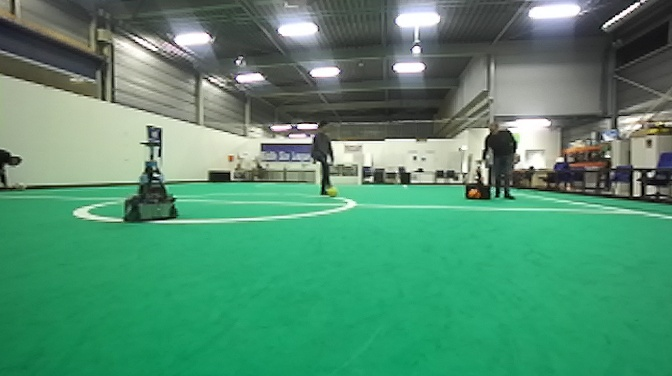ball: (8, 177, 29, 194), (466, 187, 483, 202), (325, 185, 339, 200)
goalpost: (357, 162, 364, 187)
human: (474, 119, 520, 202), (307, 119, 337, 200)
robot: (117, 135, 183, 226), (462, 160, 492, 202)
